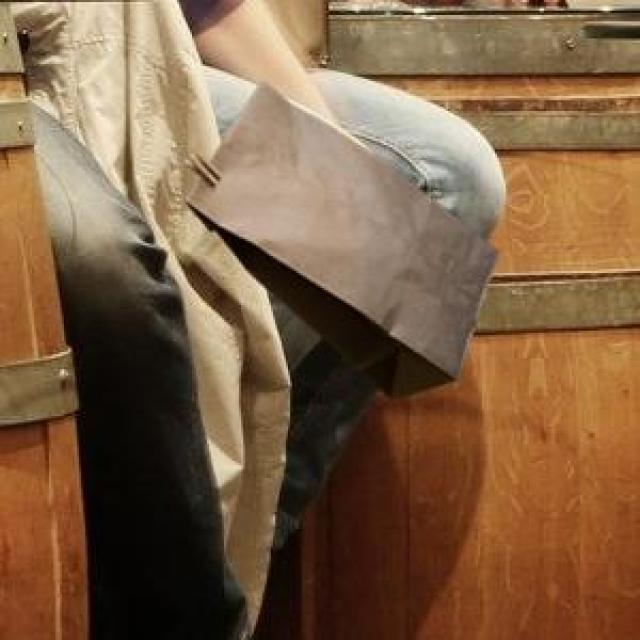paper: (181, 77, 495, 395)
